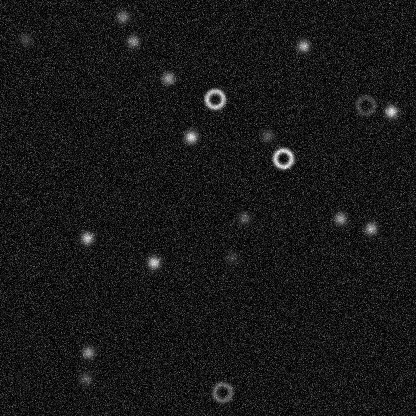Ring: (202, 86, 226, 110), (210, 380, 234, 404), (271, 146, 295, 170), (353, 93, 377, 117)
Spot: (332, 210, 348, 226), (259, 127, 275, 143), (362, 220, 378, 236), (145, 254, 161, 270), (182, 128, 198, 144), (223, 250, 239, 266), (77, 370, 93, 386), (236, 210, 252, 226), (160, 70, 176, 86), (114, 8, 130, 24), (17, 31, 33, 47), (295, 37, 311, 53), (124, 33, 140, 49), (383, 103, 399, 119), (78, 230, 94, 246), (80, 344, 96, 360)
